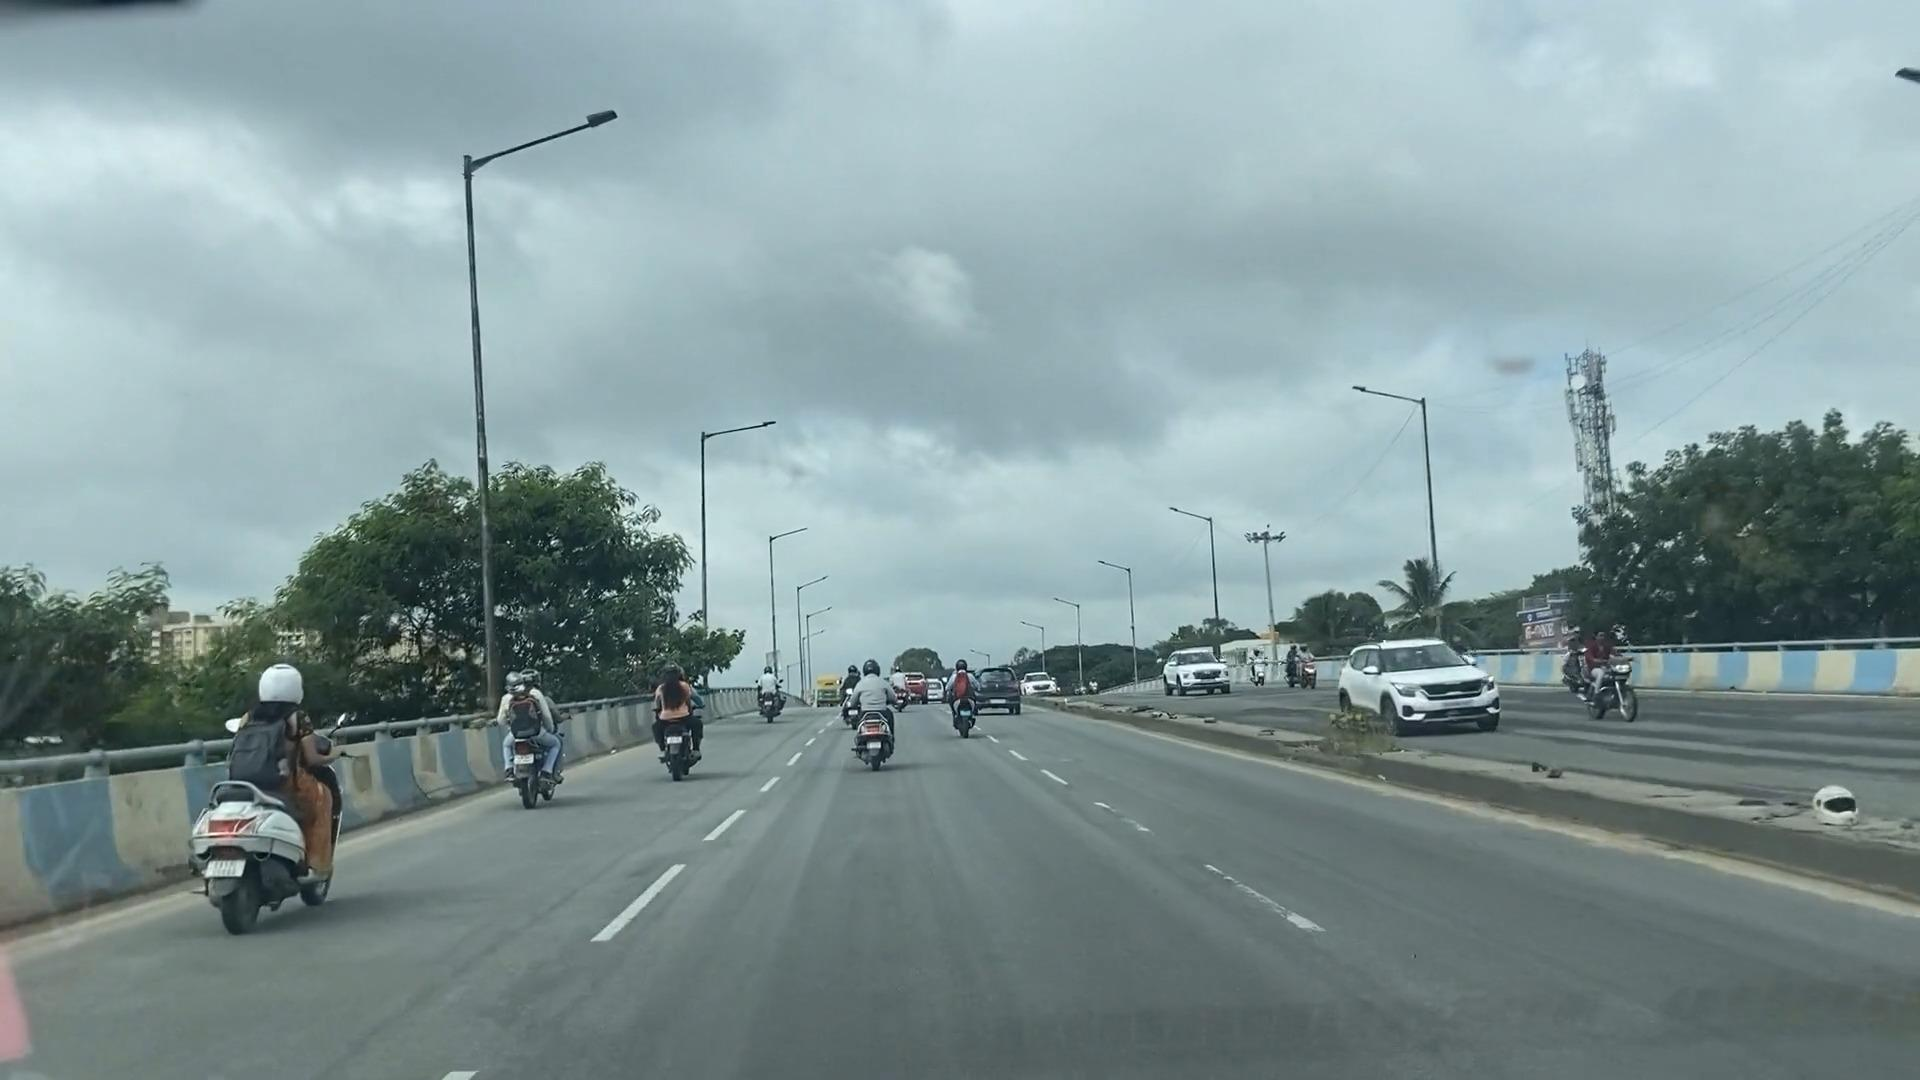LMV: (206, 655, 348, 952), (502, 654, 560, 794), (654, 661, 704, 770), (843, 661, 898, 760), (940, 651, 978, 746), (756, 669, 791, 728), (985, 661, 1018, 720)
